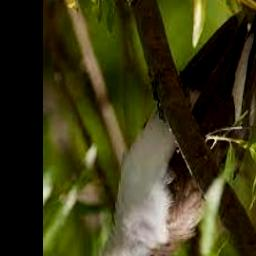Cuckoo: (72, 0, 256, 256)
